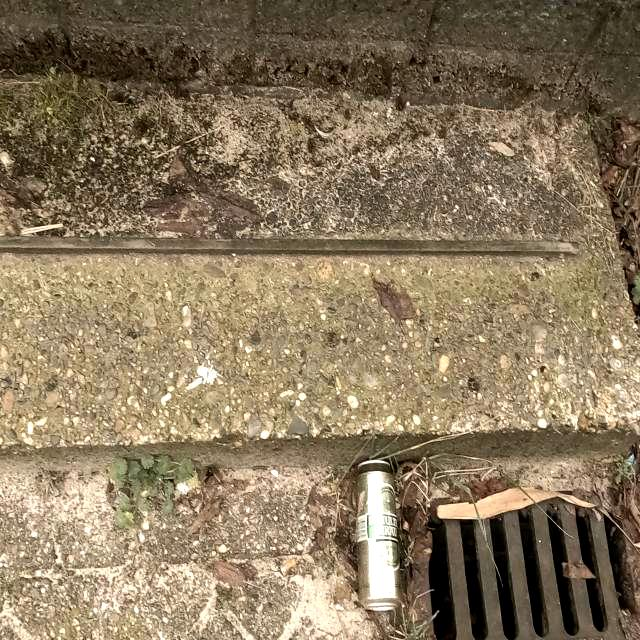Metal: (352, 458, 403, 610)
